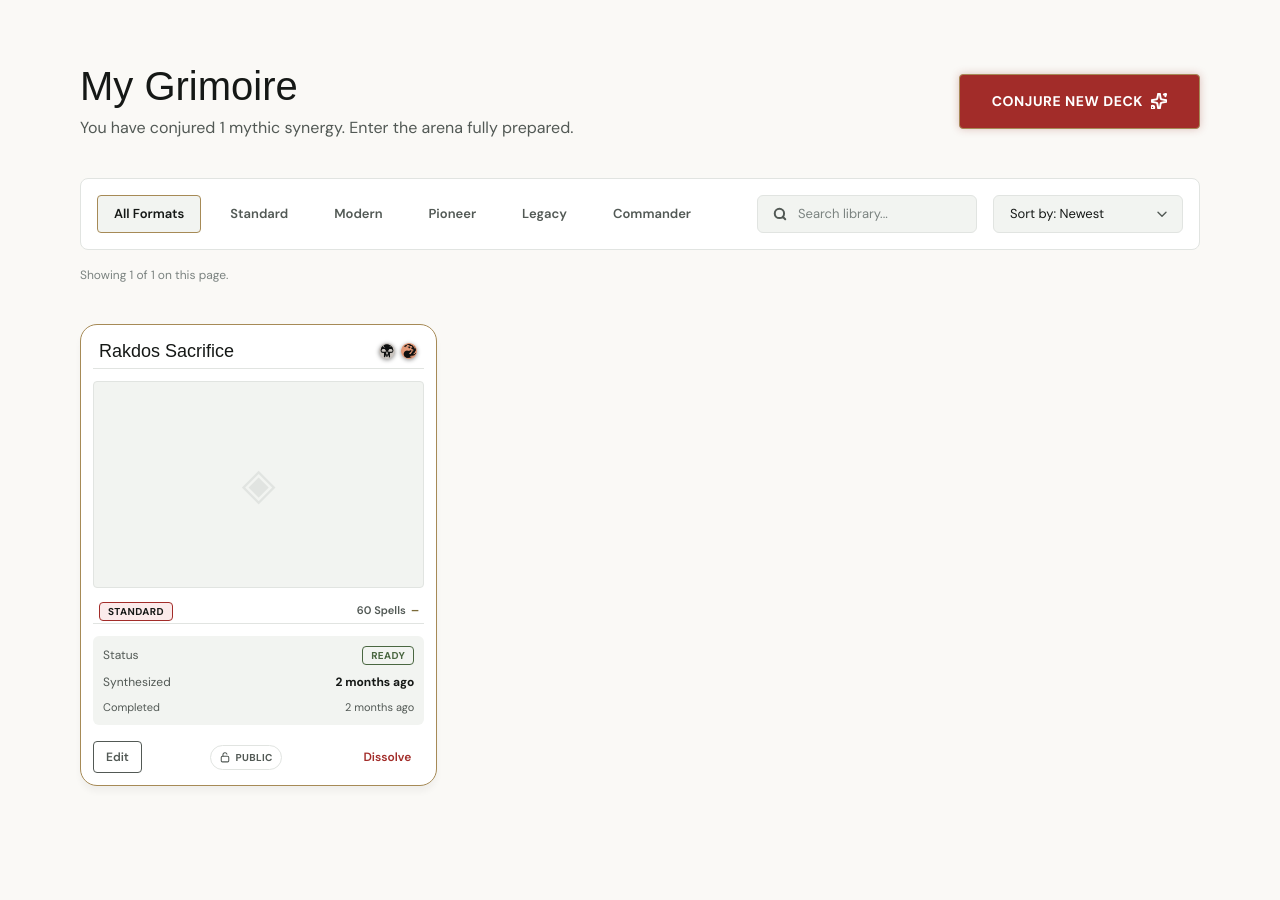
it: LibraryPage › never deletes on a single click — the modal has to be confirmed
The width and height of the screenshot is (1280, 900).
Expected: the heading "Rakdos Sacrifice" is shown, 99,340 -> 234,360
Click the button with aria-label "Dissolve Rakdos Sacrifice".
click(387, 757)  # box 350,741 -> 424,773
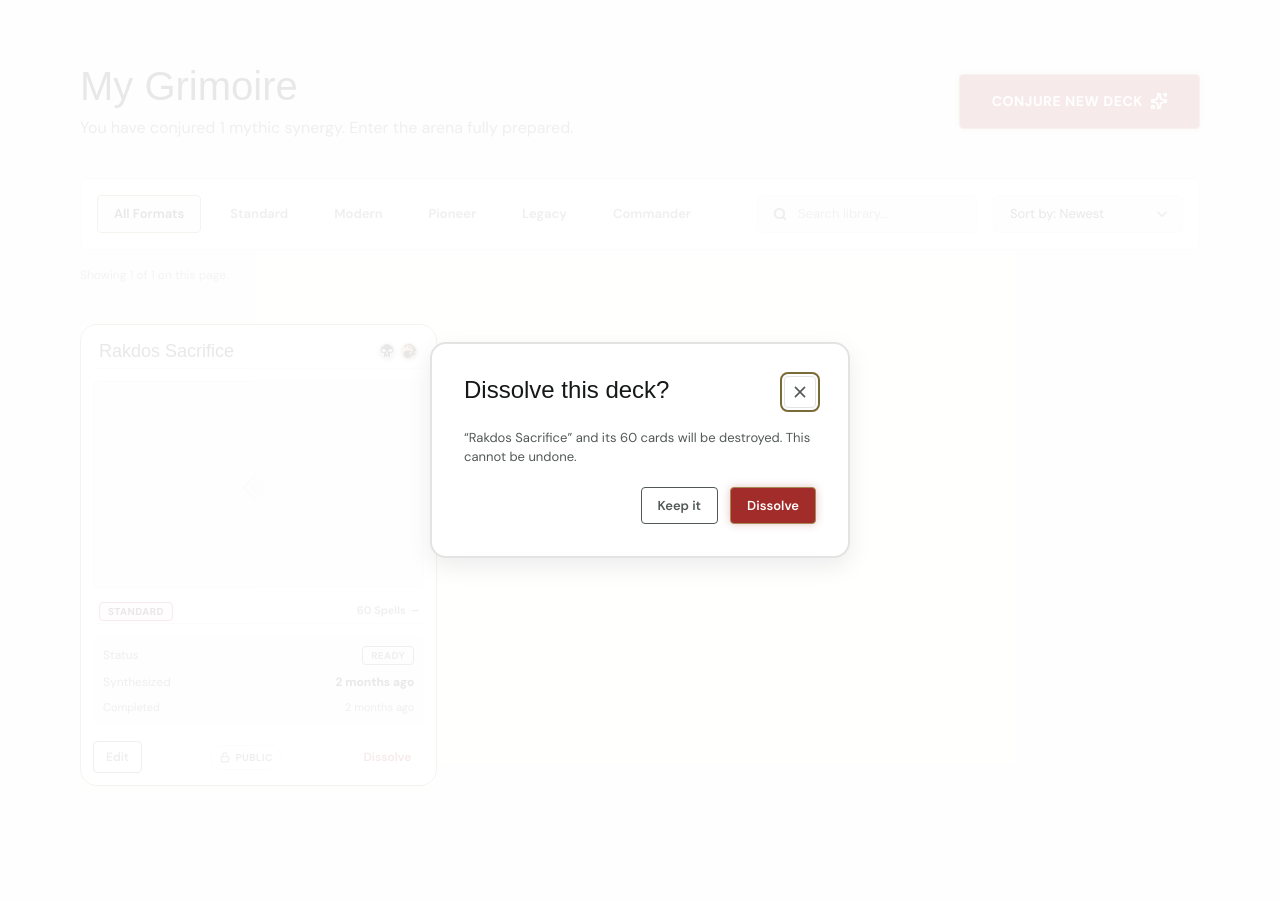
Expected: the dialog is shown, 430,342 -> 850,558
Click the button "Keep it".
click(679, 506)  # box 640,487 -> 718,524
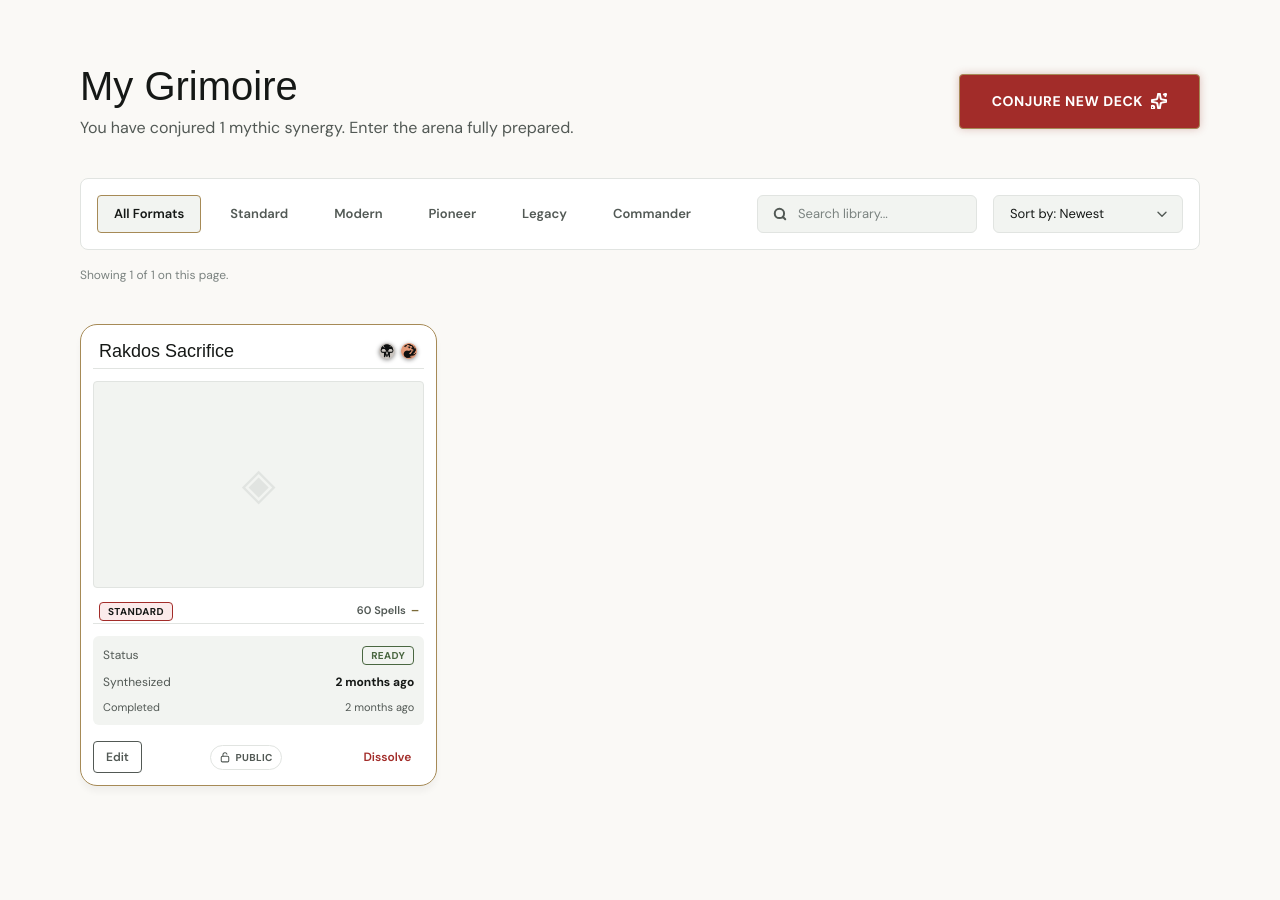
Expected: the dialog is gone
